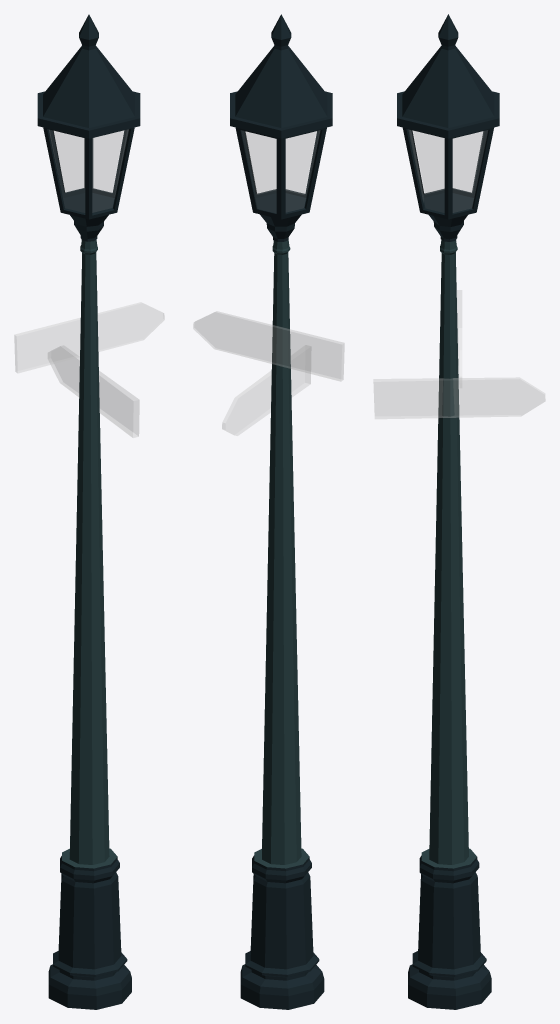
The model's file is light 1.fbx.
3 views of the same model, side by side, from view 1: azimuth 30°, elevation 25°; view 2: azimuth 150°, elevation 25°; view 3: azimuth 270°, elevation 25° (orthographic).
Parts seen in each view (by area): view 1: stand.003, reflection_sign.002, lamp_light.002, deadend_sign.002; view 2: stand.003, reflection_sign.002, lamp_light.002, deadend_sign.002; view 3: stand.003, deadend_sign.002, lamp_light.002.
Boxes of the visible parts, bbox=[...] form: stand.003: bbox=[37, 14, 140, 1009]; reflection_sign.002: bbox=[14, 302, 164, 373]; lamp_light.002: bbox=[49, 129, 128, 212]; deadend_sign.002: bbox=[48, 345, 139, 437]; stand.003: bbox=[230, 14, 332, 1009]; reflection_sign.002: bbox=[193, 311, 344, 381]; lamp_light.002: bbox=[242, 130, 319, 212]; deadend_sign.002: bbox=[222, 345, 311, 435]; stand.003: bbox=[397, 14, 499, 1009]; deadend_sign.002: bbox=[373, 377, 545, 418]; lamp_light.002: bbox=[409, 130, 487, 212].
Size of the model in its own units: 352 by 2205 by 352.
